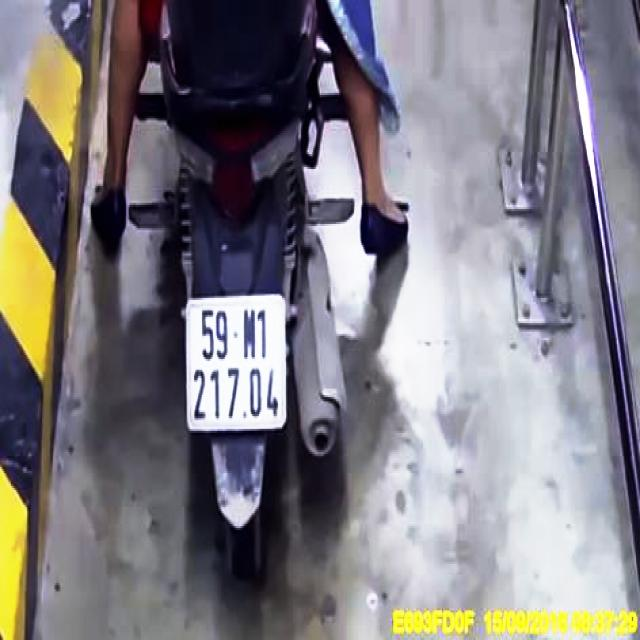license_plate: (188, 298, 286, 430)
